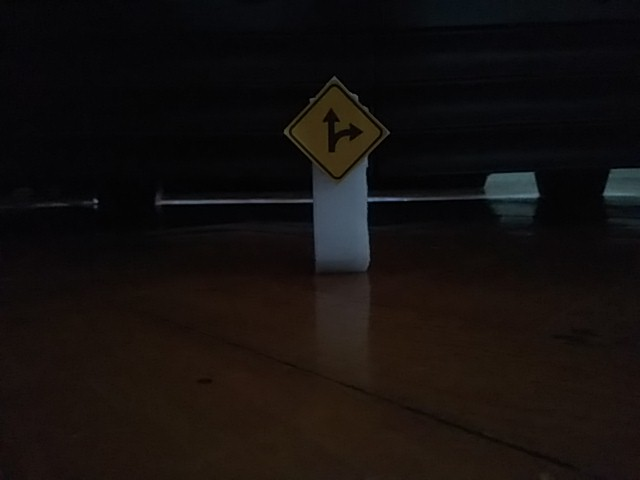Straight Or Right Sign: (287, 77, 388, 182)
